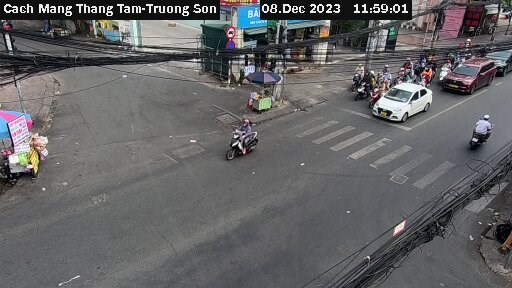car: (372, 81, 431, 125), (441, 54, 495, 95), (486, 44, 512, 76)
motorbike: (216, 115, 269, 164), (464, 113, 496, 148), (345, 65, 366, 83), (436, 62, 452, 78)
